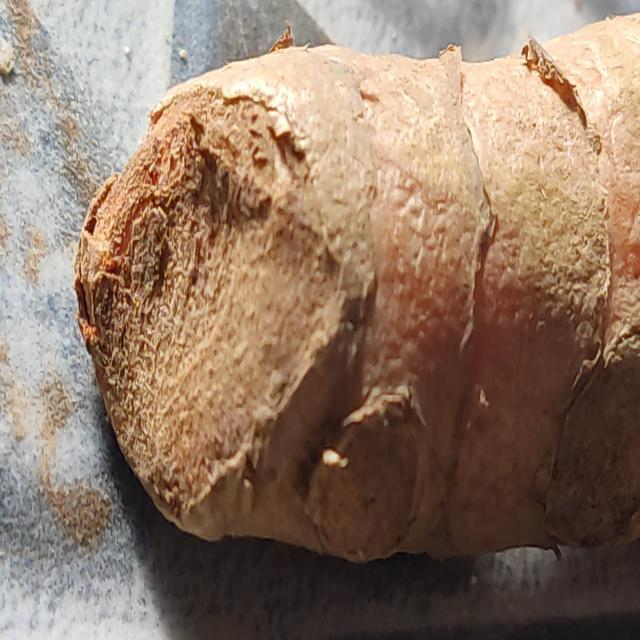ginger: (94, 67, 640, 513)
